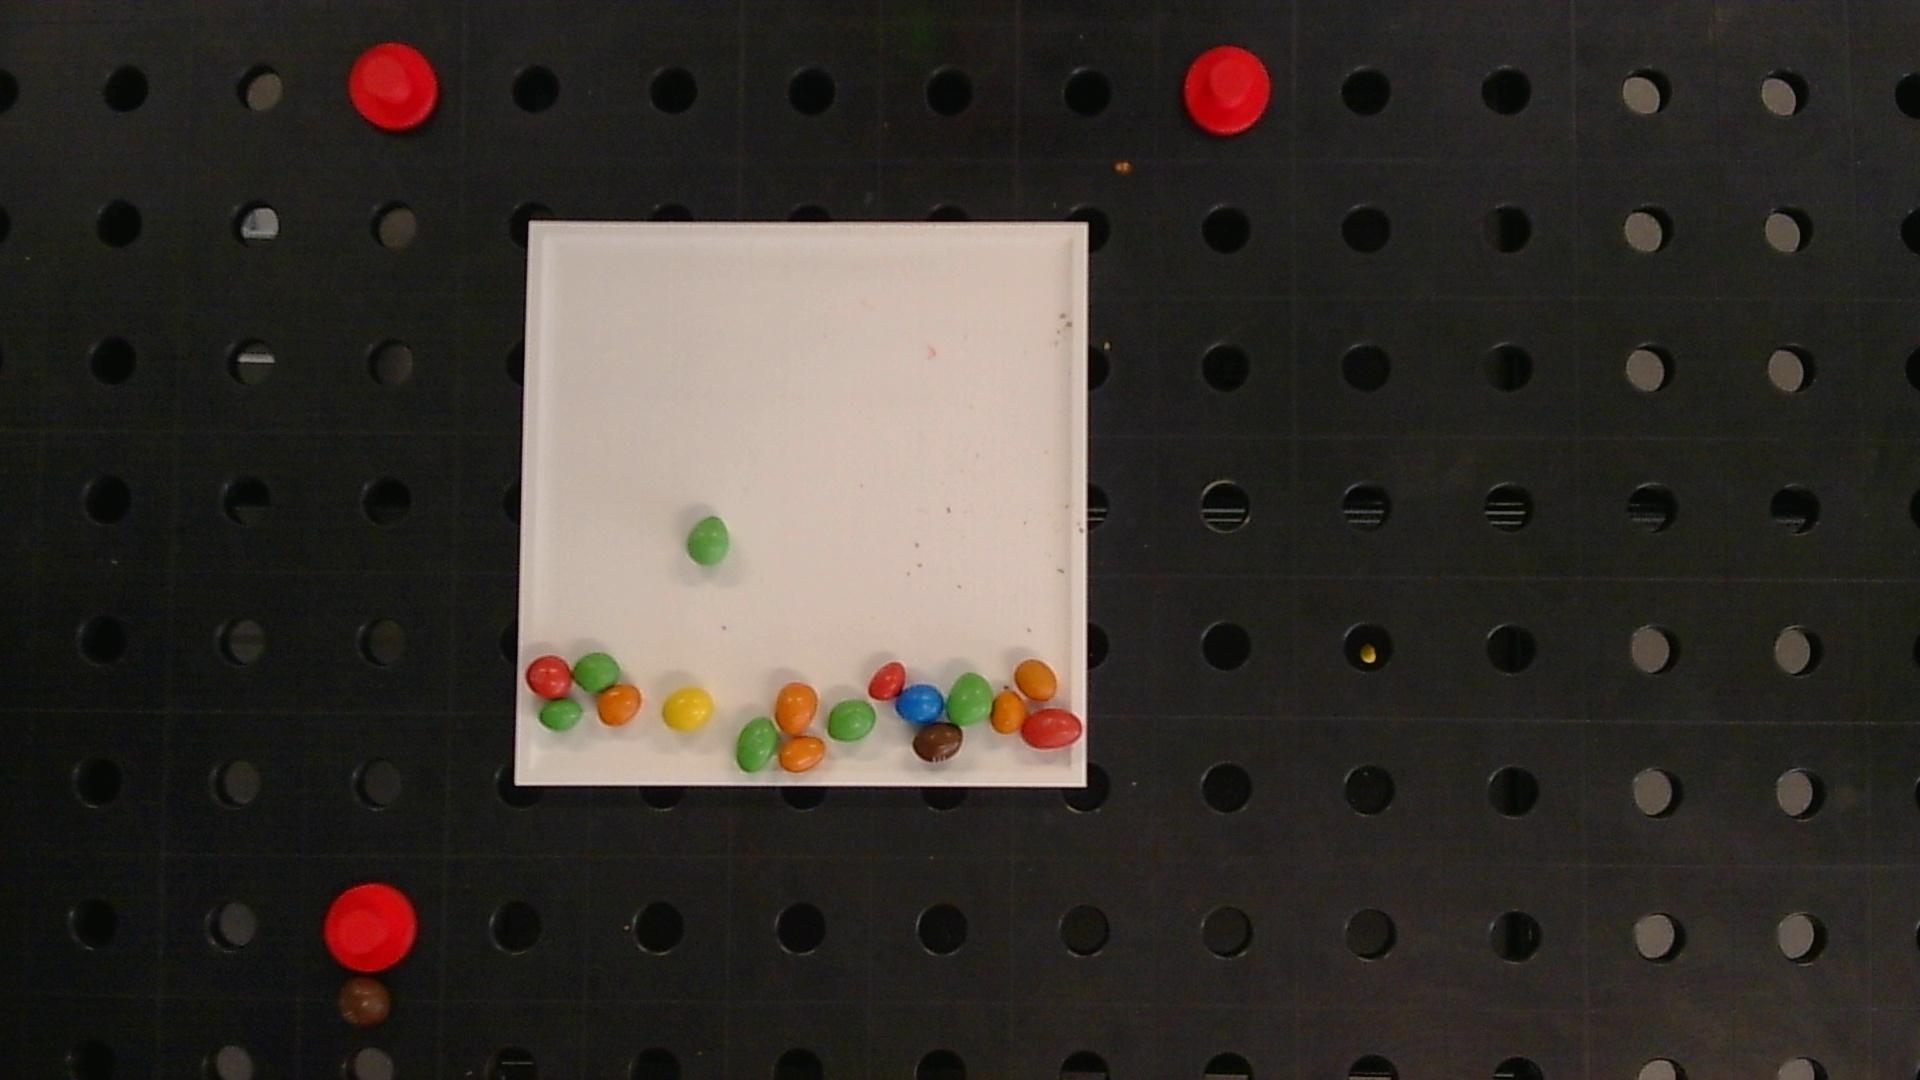blue: (895, 682, 944, 723)
brown: (913, 723, 964, 762)
green: (947, 673, 993, 724), (736, 717, 778, 771), (686, 516, 731, 566), (827, 699, 876, 740), (574, 653, 618, 691), (538, 699, 583, 732)
orange: (775, 682, 819, 735), (596, 683, 642, 725), (1014, 658, 1058, 702), (779, 736, 824, 771), (992, 691, 1025, 732)
red: (1021, 709, 1083, 748), (525, 654, 574, 698), (868, 661, 905, 699)
yellow: (662, 687, 713, 732)
